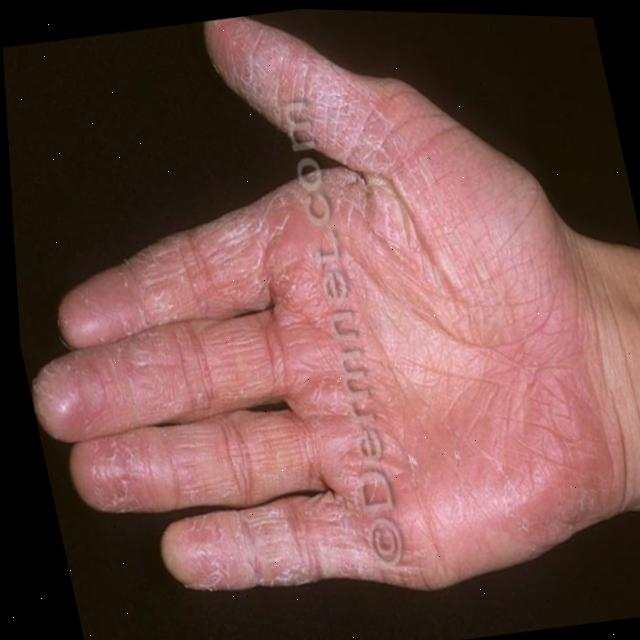Eczema: (29, 19, 514, 601)
